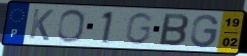1: (99, 10, 115, 45)
B: (157, 12, 191, 48)
G: (123, 11, 155, 46), (189, 14, 221, 49)
K: (27, 7, 56, 42)
O: (55, 8, 86, 44)
